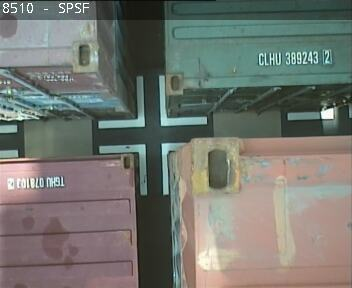groundmarker_1: (98, 75, 206, 128), (99, 141, 190, 195)
